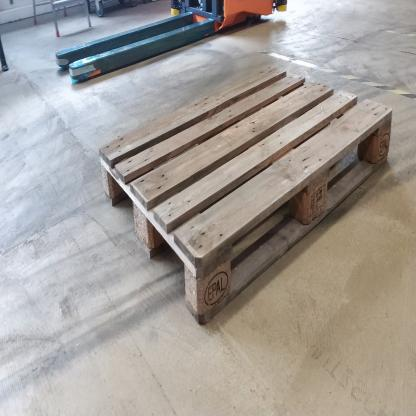BoxFace: (98, 59, 395, 331)
